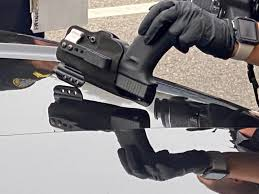gun: (48, 11, 188, 108), (44, 88, 160, 173)
